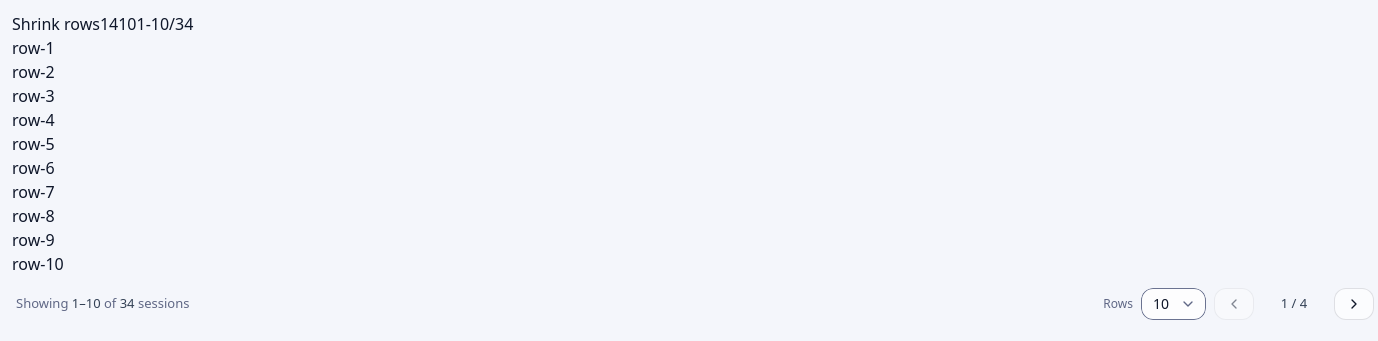
Scenario: usePagination + Pagination › steps forward and back, disabling the controls at the edges
This screenshot has width=1378, height=341.
Expected: the button named "Previous page" is disabled, [1214,288,1254,320]
Click the button named "Next page": (1354, 304) [1334,288,1374,320]
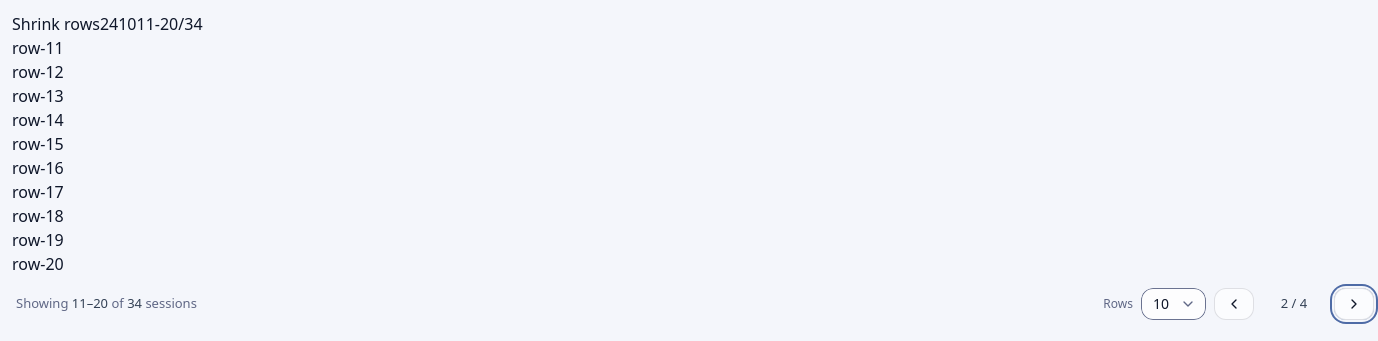
Expected: the button named "Previous page" is enabled, [1214,288,1254,320]
Result: the text with test id "page" reads "2" at [100,13,109,35]
Result: the message reads "Showing 11–20 of 34 sessions" at [16,294,197,314]
Click the button named "Next page": (1354, 304) [1334,288,1374,320]
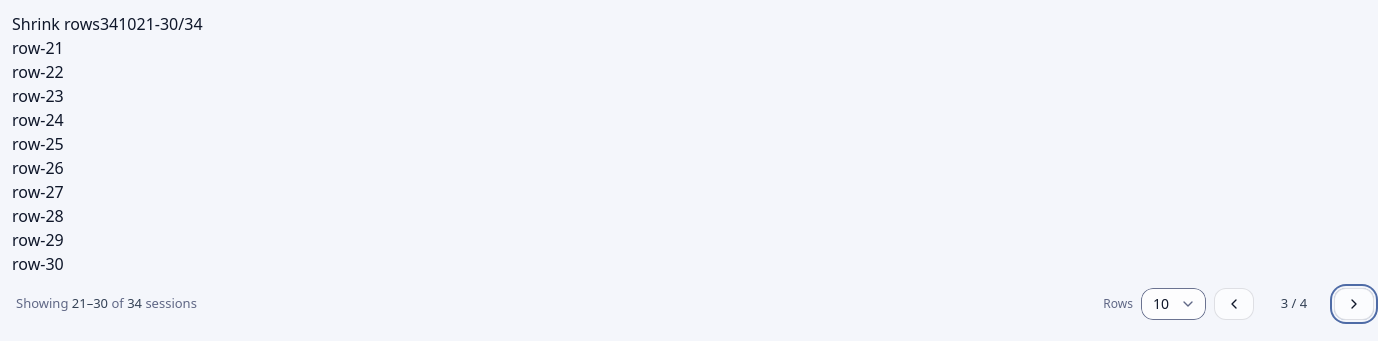
Click the button named "Next page": (1354, 304) [1334,288,1374,320]
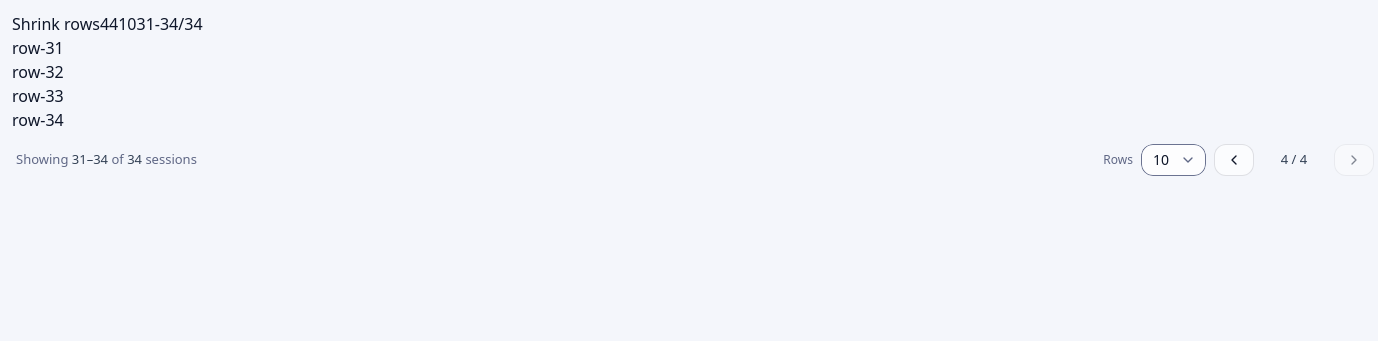
Result: the text with test id "page" reads "4" at [100,13,109,35]
Result: the message reads "Showing 31–34 of 34 sessions" at [16,150,197,170]
Result: the number of list items is 4 at [12,37,64,59]; [12,61,64,83]; [12,85,64,107]; [12,109,64,131]
Click the button named "Previous page": (1234, 160) [1214,144,1254,176]
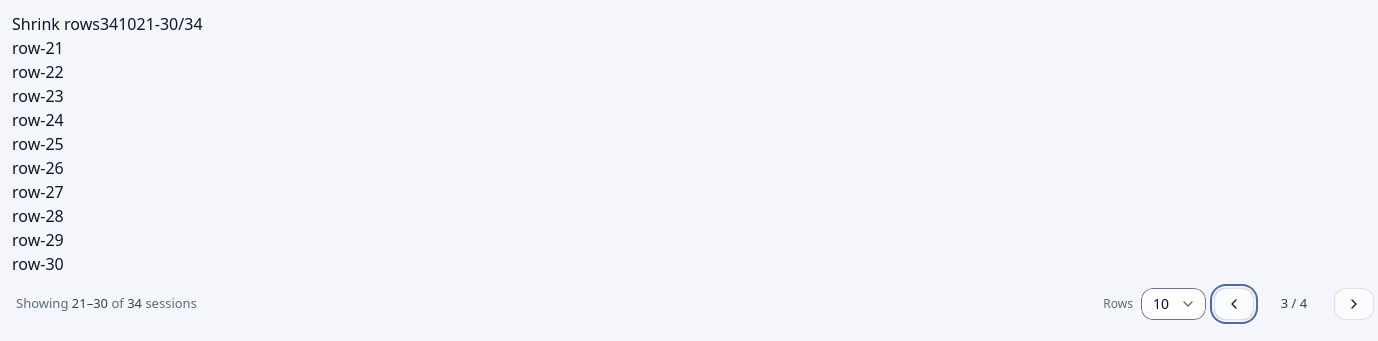
Result: the text with test id "page" reads "3" at [100,13,109,35]
